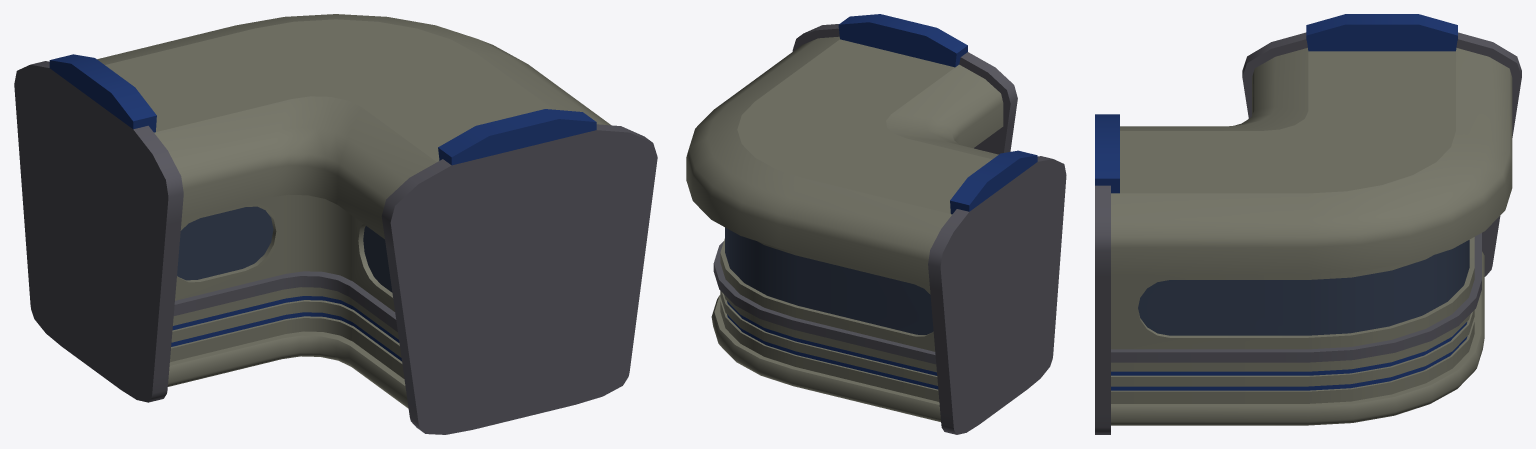
File: LPSciFi_DoorwayCorner.fbx
3 views of the same model, side by side, from view 1: azimuth 30°, elevation 25°; view 2: azimuth 150°, elevation 25°; view 3: azimuth 270°, elevation 25° (orthographic). The views are drawn at different scales.
Visible parts, largest first — view 1: DoorwayCorner; view 2: DoorwayCorner; view 3: DoorwayCorner.
Boxes of the visible parts, x1,y1,x2,y2 form: DoorwayCorner: (14, 14, 657, 434); DoorwayCorner: (686, 14, 1066, 434); DoorwayCorner: (1095, 14, 1521, 434).
Bounding box in the file's own units: 595 × 404 × 595.
